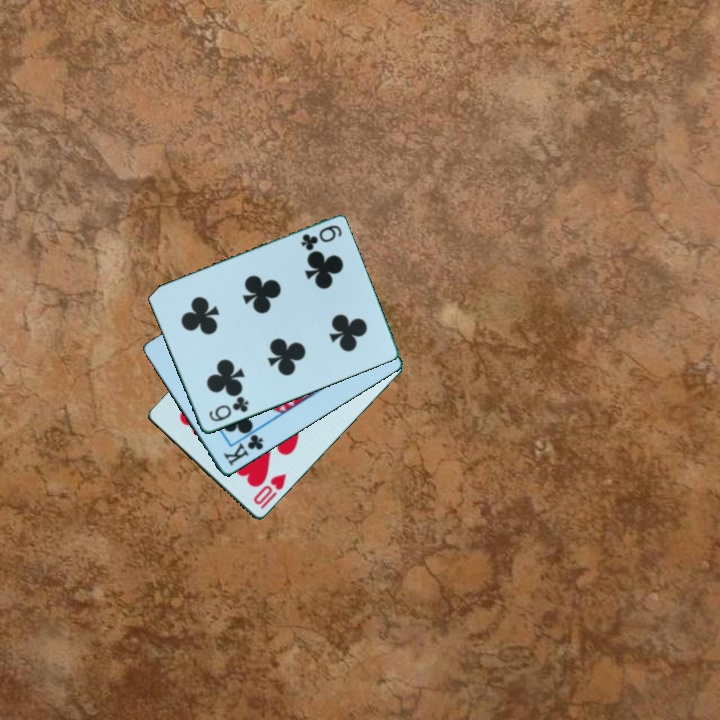10h: (250, 470, 290, 513)
6c: (297, 222, 345, 253), (205, 394, 252, 425)
Kc: (219, 431, 267, 469)
